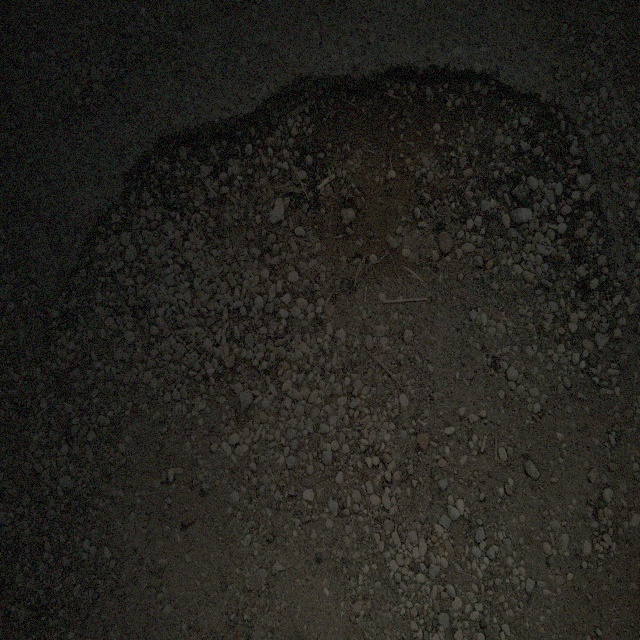pothole: (100, 42, 634, 381)
